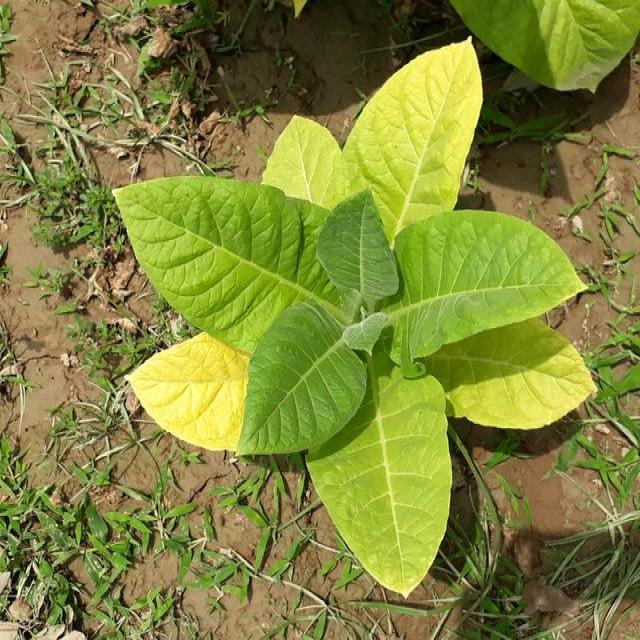crop: (126, 55, 592, 576), (453, 0, 633, 85)
